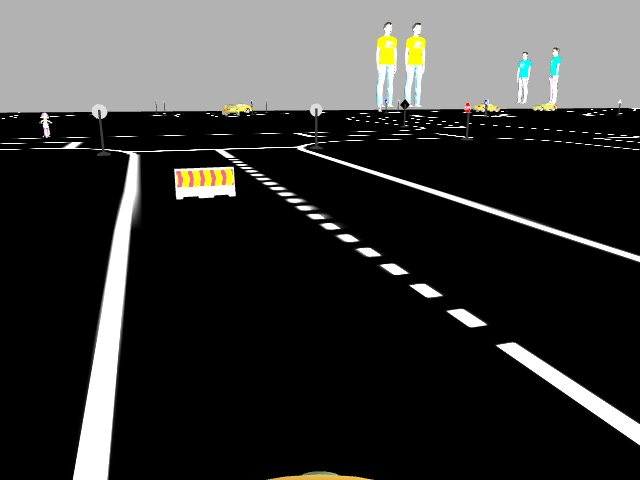ClosedRoadStand: (174, 169, 235, 196)
